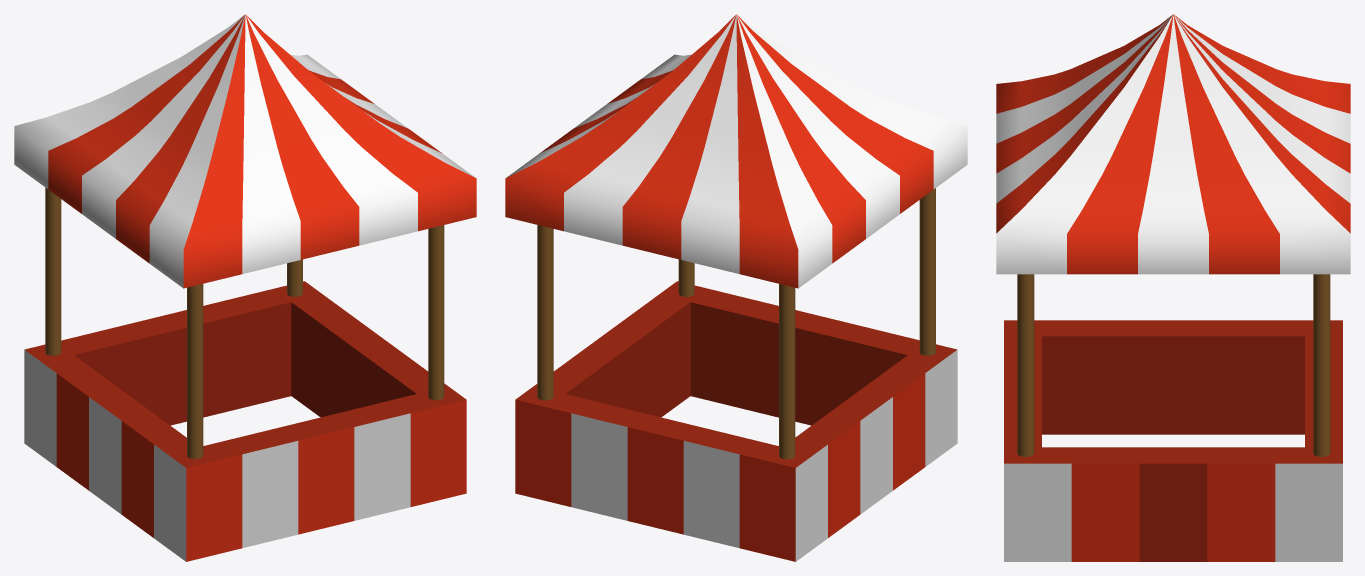
Rendered from tienda.fbx.
3 renders of one model, left to right at view 1: azimuth 30°, elevation 25°; view 2: azimuth 150°, elevation 25°; view 3: azimuth 270°, elevation 25°, orthographic. The views are drawn at different scales.
Parts seen in each view (by area): view 1: Carpa; view 2: Carpa; view 3: Carpa.
Part boxes in pixels (x1,y1,x2,y2): Carpa: (14,14,476,561); Carpa: (505,14,967,561); Carpa: (996,14,1350,561).
Size of the model in its own units: 209 by 310 by 209.
Materials: 1 (1 with a texture image).
